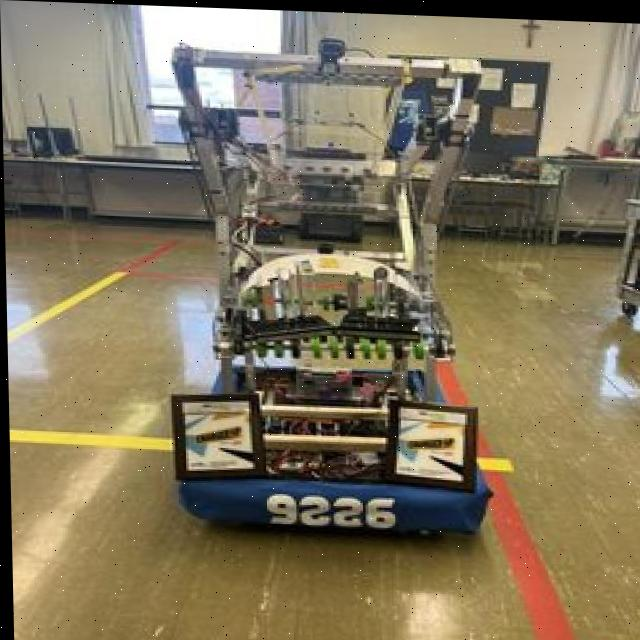robot: (119, 12, 545, 569)
